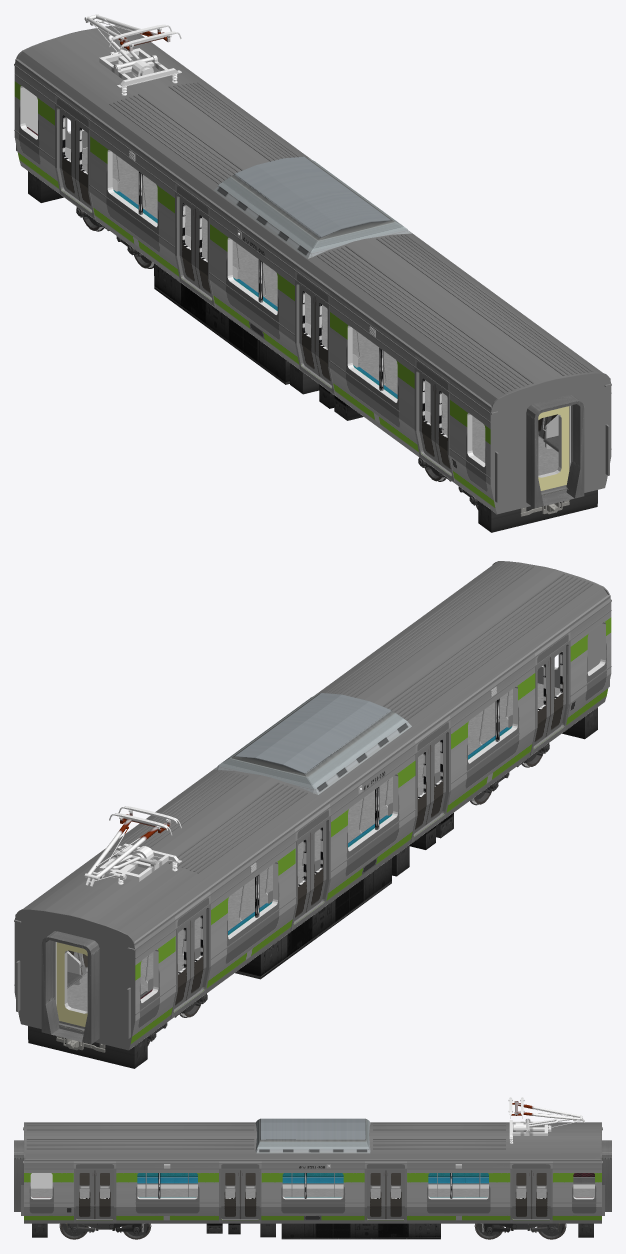
File: class_e231500_m.obj
3 renders of one model, top to bottom at view 1: azimuth 30°, elevation 25°; view 2: azimuth 150°, elevation 25°; view 3: azimuth 270°, elevation 25°, orthographic. The views are drawn at different scales.
Parts seen in each view (by area): view 1: m_base, m_side, m_jibungbid, m_air, m_habu, m_badak, m_door_RB, m_mak, m_door_RF, m_backin, m_panbase, m_seat (+2 smaller); view 2: m_base, m_side, m_jibungbid, m_air, m_habu, m_badak, m_door_RF, m_mak, m_door_RB, m_backin, m_seat, m_panbase (+2 smaller); view 3: m_side, m_base, m_jibungbid, m_air, m_habu, m_badak, m_door_LF, m_door_LB, m_seat, m_DT71, m_inside, m_mak (+4 smaller).
Part boxes in pixels (box(x1,y1,x2,y2)): m_base: box(16, 25, 609, 512); m_side: box(14, 61, 611, 514); m_jibungbid: box(14, 58, 611, 502); m_air: box(214, 156, 411, 258); m_habu: box(28, 171, 597, 532); m_badak: box(82, 148, 558, 475); m_door_RB: box(59, 109, 439, 463); m_mak: box(526, 395, 584, 508); m_door_RF: box(75, 121, 451, 472); m_backin: box(25, 88, 570, 492); m_panbase: box(99, 48, 181, 95); m_seat: box(27, 127, 543, 439); m_base: box(16, 561, 609, 1048); m_side: box(14, 597, 611, 1050); m_jibungbid: box(14, 562, 611, 1038); m_air: box(214, 693, 411, 794); m_habu: box(28, 707, 597, 1068); m_badak: box(67, 683, 560, 1011); m_door_RF: box(186, 646, 565, 1000); m_mak: box(41, 931, 99, 1044); m_door_RB: box(174, 657, 550, 1009); m_backin: box(55, 625, 600, 1028); m_seat: box(67, 691, 512, 998); m_panbase: box(99, 843, 181, 884); m_side: box(24, 1160, 601, 1223); m_base: box(24, 1122, 601, 1159); m_jibungbid: box(21, 1123, 604, 1222); m_air: box(255, 1118, 370, 1153); m_habu: box(32, 1223, 593, 1239); m_badak: box(30, 1188, 594, 1197); m_door_LF: box(75, 1170, 531, 1219); m_door_LB: box(95, 1170, 550, 1219); m_seat: box(80, 1173, 594, 1197); m_DT71: box(59, 1223, 566, 1239); m_inside: box(30, 1173, 594, 1188); m_mak: box(14, 1140, 611, 1211).
Bounding box in the file's own units: 2.93 × 4.78 × 20.18.
